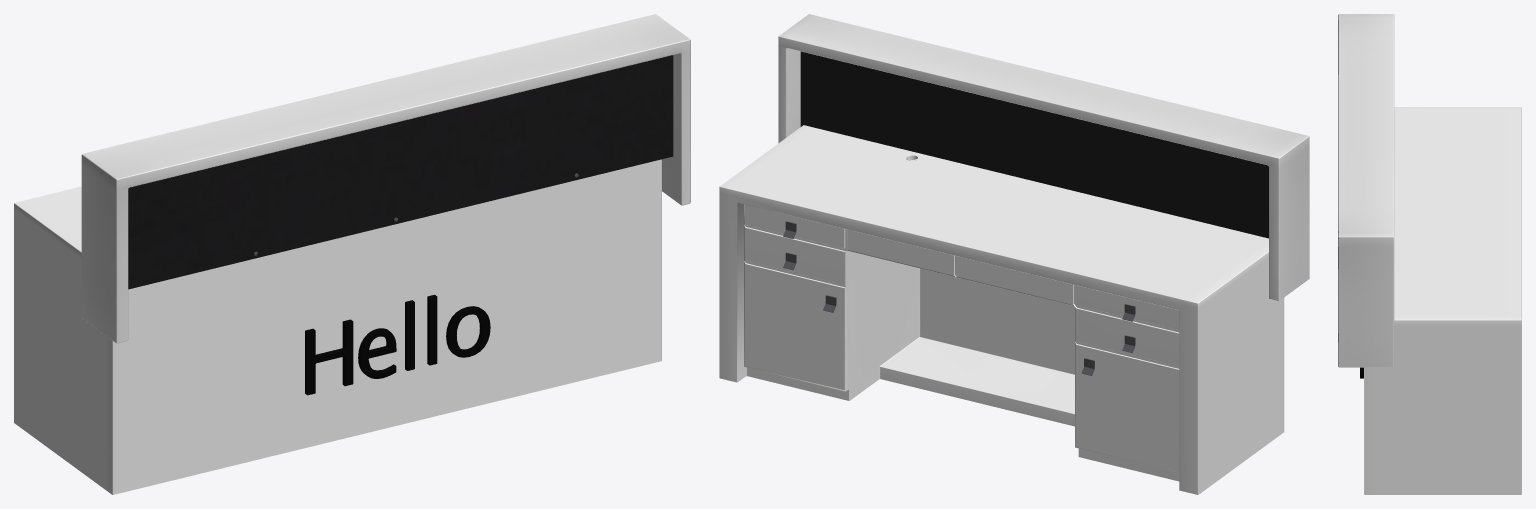
File: reception_table.fbx
3 renders of one model, left to right at view 1: azimuth 30°, elevation 25°; view 2: azimuth 150°, elevation 25°; view 3: azimuth 270°, elevation 25°, orthographic. The views are drawn at different scales.
Visible parts, largest first — view 1: White_part, black_glass, hello; view 2: White_part, black_glass, Metal_Handle1; view 3: White_part.
Part boxes in pixels (bbox=[...]): White_part: bbox=[14, 14, 690, 494]; black_glass: bbox=[128, 55, 673, 289]; hello: bbox=[305, 294, 490, 395]; White_part: bbox=[719, 14, 1309, 494]; black_glass: bbox=[800, 51, 1268, 238]; Metal_Handle1: bbox=[783, 221, 1135, 375]; White_part: bbox=[1338, 14, 1521, 494].
Bounding box in the file's own units: 276 × 152 × 96.06.
1 material, 1 textured.
